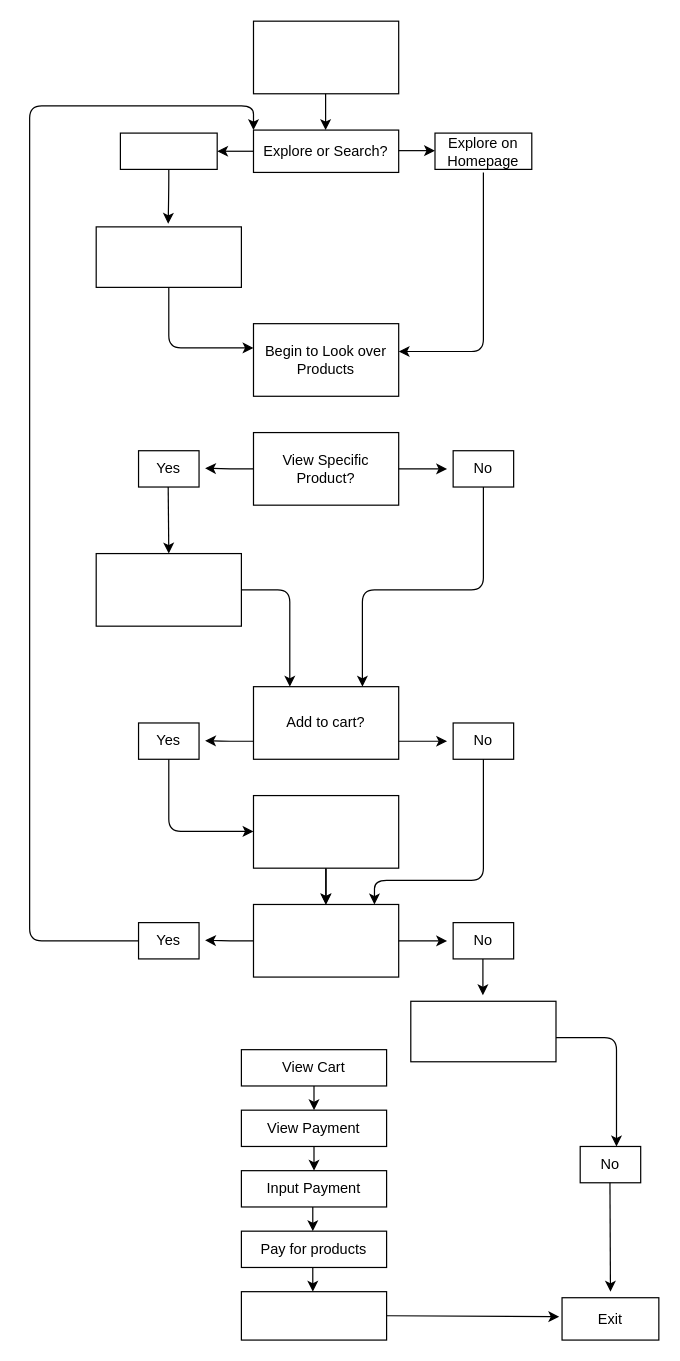
Some shapes in this 680 by 1361 pixel diagram are drawn without their labels. Each missing label, with the centre of its shape:
checkout?: the point at 483,1031
Confirm: the point at 325,831
Continue To Shop?: the point at 325,940
Email + Page confirmation: the point at 313,1315
Enter Website: the point at 325,57
Open product page: the point at 168,589
provide input to the website for your serach: the point at 168,256
Search: the point at 168,150
